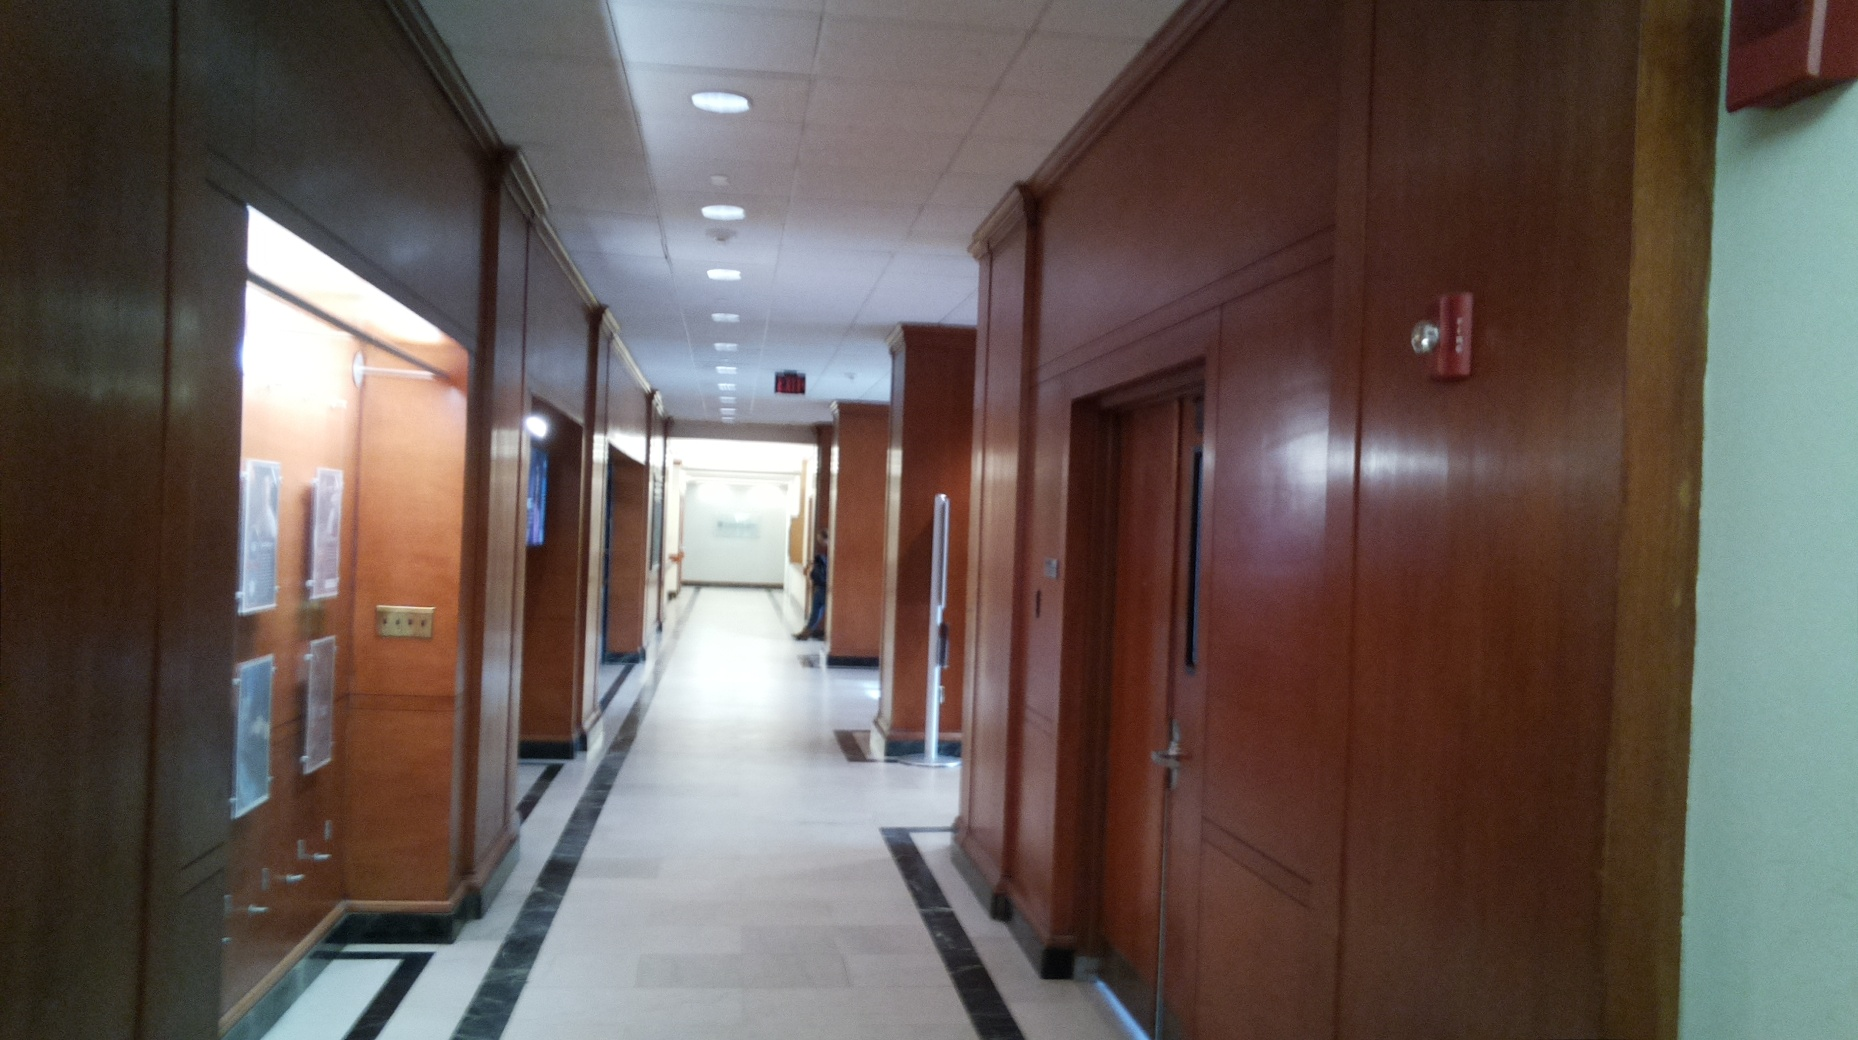exit sign: (772, 371, 808, 397)
